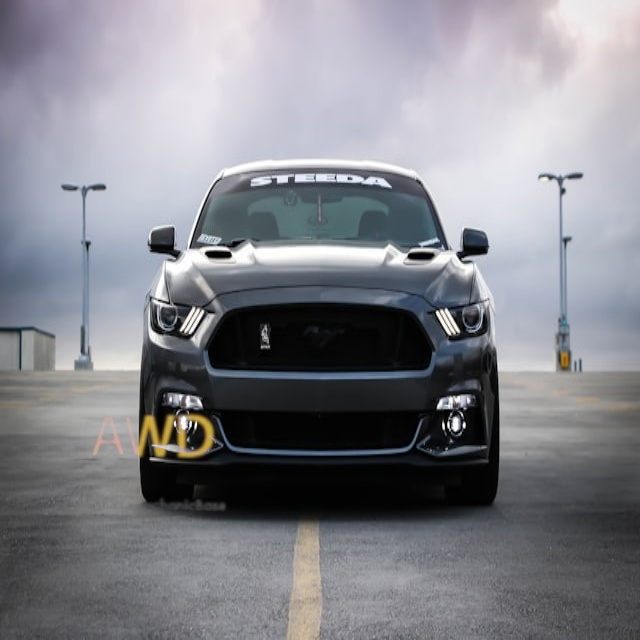symbol: (70, 357, 232, 519)
